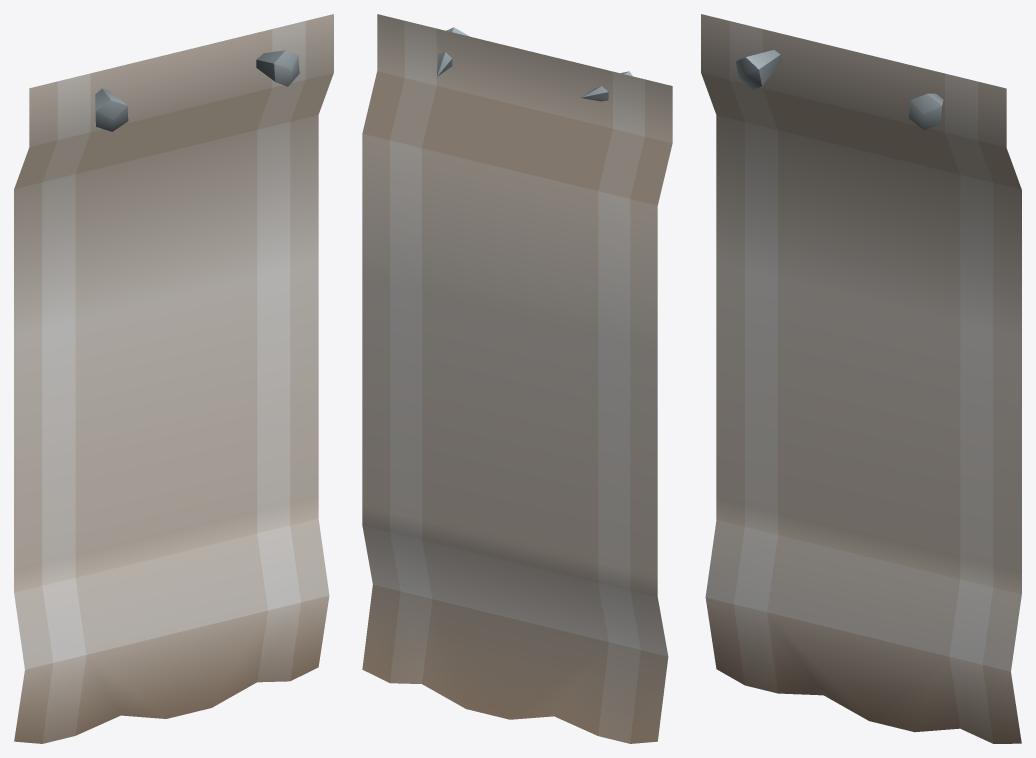
File: banner_white.glb
The picture shows the model from 3 angles, left to right: view 1: azimuth 30°, elevation 25°; view 2: azimuth 150°, elevation 25°; view 3: azimuth 330°, elevation 25°; orthographic projection. The views are drawn at different scales.
Visible parts, largest first — view 1: banner_white; view 2: banner_white; view 3: banner_white.
Boxes of the visible parts, x1,y1,x2,y2 form: banner_white: [14, 14, 333, 743]; banner_white: [362, 14, 672, 743]; banner_white: [701, 14, 1021, 743].
Size of the model in its own units: 1.5 by 3.2 by 0.3117.
1 material, 1 textured.
